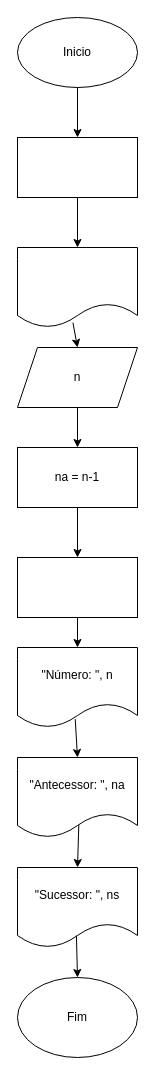
The diagram is 155 pixels wide and 1075 high, and some of its shapes have lost their labels. Here are the shapes that lost their labels. From the top down, the box of each, then its label:
(16, 136, 138, 198): inteiro n, na, ns
(16, 246, 138, 328): Informe um valor:
(16, 556, 138, 618): ns = n+1
